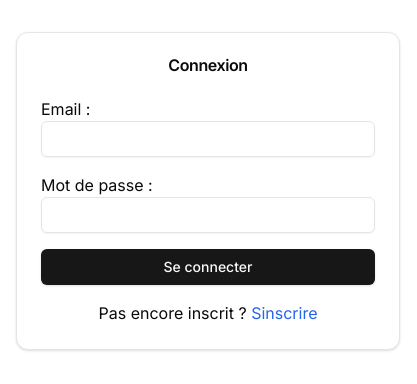
LoginPage › affiche un message d'erreur si la connexion échoue
The width and height of the screenshot is (417, 384).
Type "test@example.com" into the field labelled "Email :" at (208, 139), box [41,121,375,157]
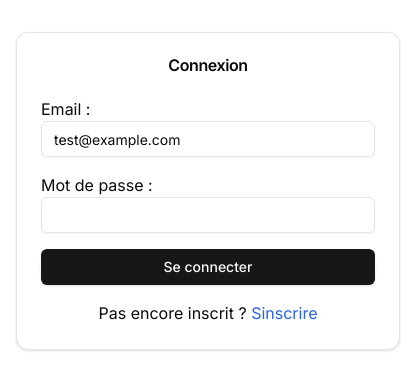
Type "password" into the password field labelled "Mot de passe :" at (208, 215), box [41,197,375,233]
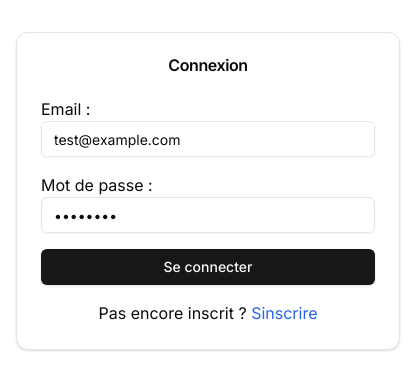
Click the button "Se connecter" at (208, 267), box [41,249,375,285]
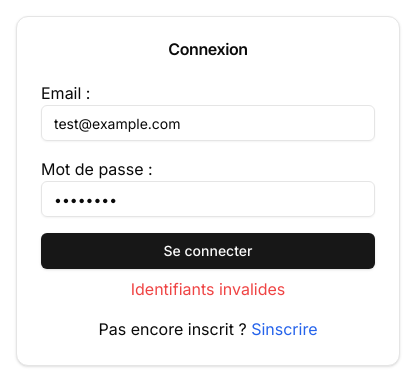
expect the text "Identifiants invalides" is shown: met, box [131,279,285,299]
